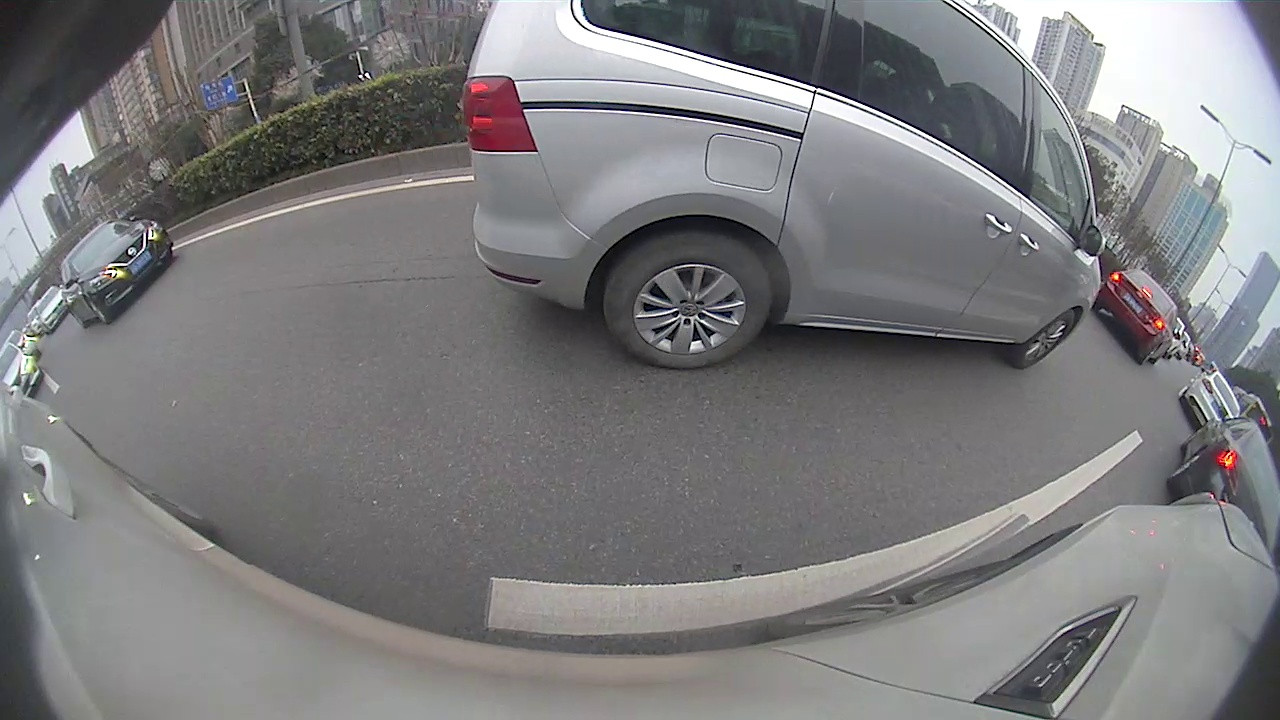car: (459, 1, 1103, 373), (1163, 404, 1278, 555), (58, 216, 175, 328), (1094, 264, 1183, 369), (1177, 367, 1244, 429), (0, 340, 46, 401)
front: (1014, 310, 1076, 369)
rear: (604, 234, 771, 371)
